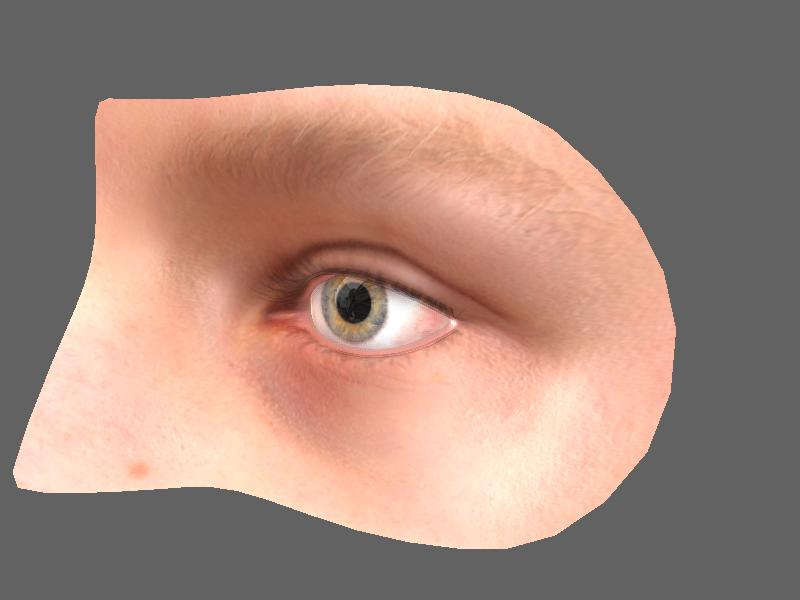iris: (317, 271, 391, 340)
